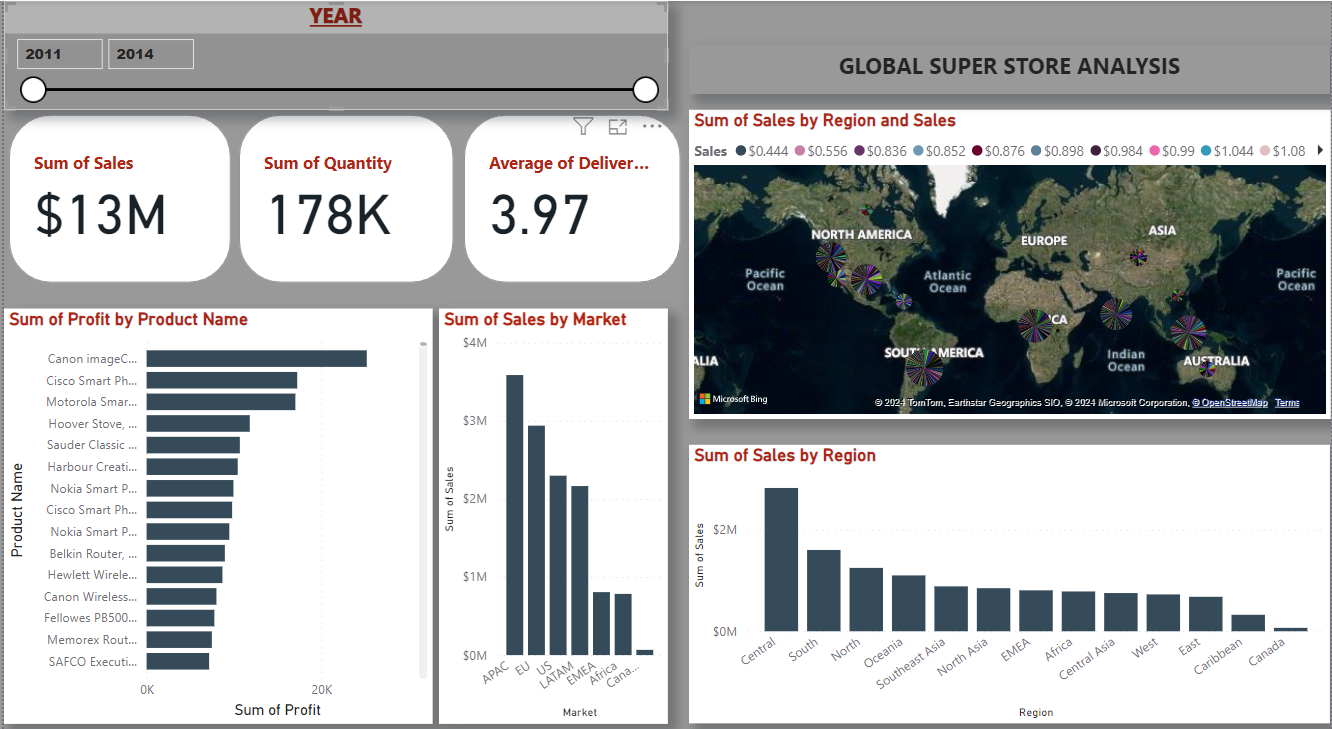

The page's visual inventory and layout, read from the dashboard file:
{"tool":"powerbi","page":{"name":"Page 1","canvas":[1280,720],"ordinal":0},"visuals":[{"type":"cardVisual","fields":{"Data":["Sum(Orders.Sales)"]},"box":[0,104.9,224.3,172.5],"z":0},{"type":"cardVisual","fields":{"Data":["Sum(Orders.Quantity)"]},"box":[221.9,104.9,217.1,172.5],"z":1000},{"type":"cardVisual","fields":{"Data":["Avg(Orders.Delivery Days)"]},"box":[439,104.9,219.5,172.5],"z":2000},{"type":"slicer","title":"YEAR","fields":{"Values":["Orders.Order Date.Variation.Date Hierarchy.Year"]},"box":[0,0,640.4,104.9],"z":3000},{"type":"map","fields":{"Category":["Orders.Region"],"Series":["Orders.Sales"],"Size":["Sum(Orders.Sales)"]},"box":[661.4,104.4,619.1,298.4],"z":4000},{"type":"barChart","fields":{"Category":["Orders.Product Name"],"Y":["Sum(Orders.Profit)"]},"box":[0,296.7,413.7,400.4],"z":5000},{"type":"columnChart","fields":{"Y":["Sum(Orders.Sales)"],"Category":["Orders.Region"]},"box":[660.9,428.1,618.7,268.9],"z":6000},{"type":"columnChart","fields":{"Category":["Orders.Market"],"Y":["Sum(Orders.Sales)"]},"box":[419.7,296.7,220.7,400.4],"z":7000},{"type":"textbox","box":[660.9,42.2,618.7,47],"z":8000}]}

Visuals, with their boxes in screenshot pixels (x1, y1, x2, y2), scaled from the page's 1280x720 canvas onto the 1332x729 screenshot:
cardVisual - Sum(Orders.Sales): [x1=0, y1=106, x2=233, y2=281]
cardVisual - Sum(Orders.Quantity): [x1=231, y1=106, x2=457, y2=281]
cardVisual - Avg(Orders.Delivery Days): [x1=457, y1=106, x2=685, y2=281]
"YEAR" slicer: [x1=0, y1=0, x2=666, y2=106]
map - Orders.Region x Orders.Sales: [x1=688, y1=106, x2=1331, y2=408]
barChart - Orders.Product Name x Sum(Orders.Profit): [x1=0, y1=300, x2=431, y2=706]
columnChart - Sum(Orders.Sales) x Orders.Region: [x1=688, y1=433, x2=1331, y2=706]
columnChart - Orders.Market x Sum(Orders.Sales): [x1=437, y1=300, x2=666, y2=706]
textbox: [x1=688, y1=43, x2=1331, y2=90]
